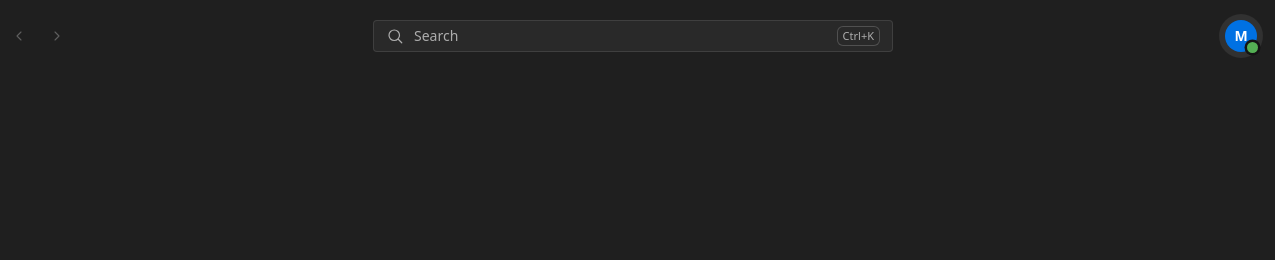
Test case: hides recent DMs with people blocked since they were cached and refetches the history
Focus the field labelled "Search" at point(620, 36), box top-left (414, 26), bottom-right (827, 46)
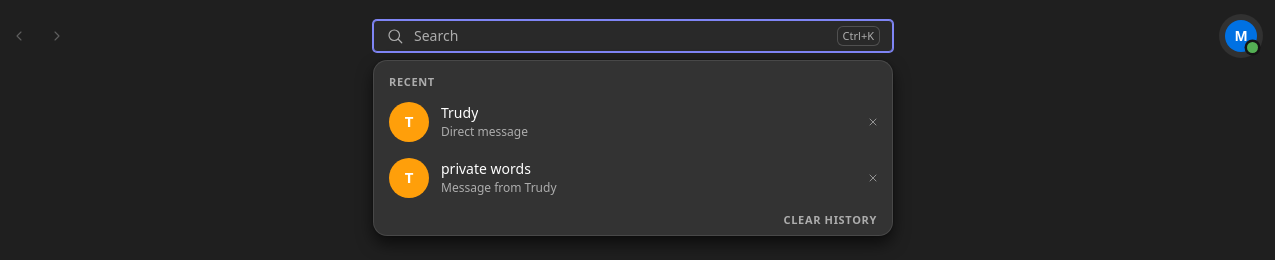
Expected: the text "private words" is shown, top-left (441, 159), bottom-right (531, 178)
